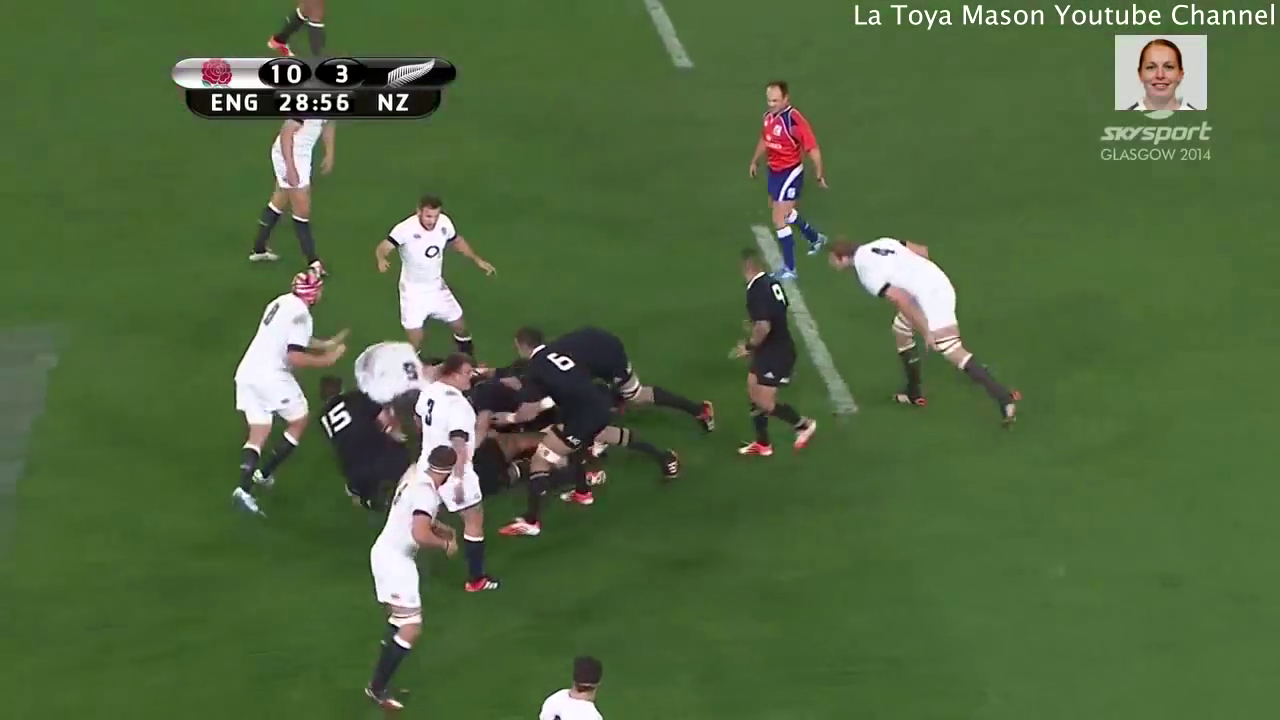player: (823, 228, 1032, 434), (349, 446, 471, 718), (215, 270, 329, 528), (709, 248, 817, 469), (503, 324, 601, 556), (731, 77, 832, 287), (373, 201, 487, 353), (249, 119, 336, 260), (523, 656, 623, 720)
ruck: (318, 324, 723, 543)
